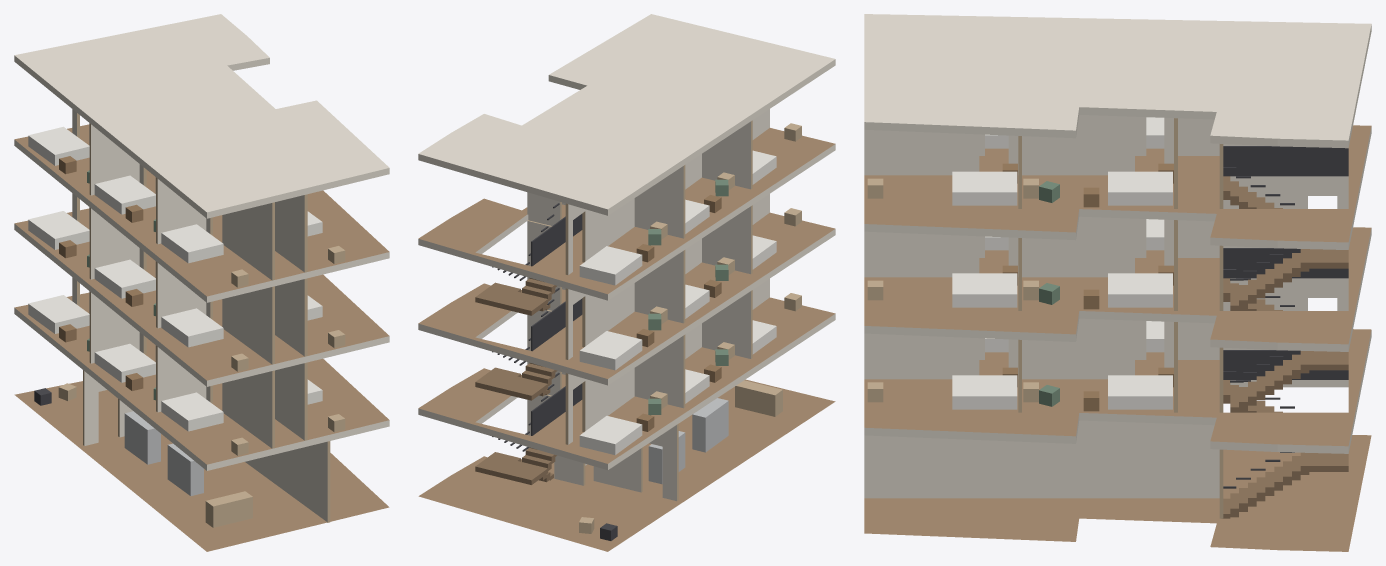
Rendered from interior.glb.
The picture shows the model from 3 angles, left to right: view 1: azimuth 30°, elevation 25°; view 2: azimuth 150°, elevation 25°; view 3: azimuth 270°, elevation 25°; orthographic projection. The views are drawn at different scales.
Visible parts, largest first — view 1: slabs, partitions, coarse-s1, coarse-s2, coarse-s3, coarse-s0; view 2: slabs, partitions, stair, coarse-s3, coarse-s2, coarse-s1, coarse-s0; view 3: slabs, partitions, stair, coarse-s1, coarse-s2, coarse-s3.
Boxes of the visible parts, left/top/right/bottom form: slabs: left=14, top=14, right=389, bottom=551; partitions: left=72, top=109, right=330, bottom=522; coarse-s1: left=28, top=295, right=345, bottom=455; coarse-s2: left=28, top=211, right=345, bottom=371; coarse-s3: left=28, top=126, right=345, bottom=287; coarse-s0: left=34, top=383, right=252, bottom=527; slabs: left=418, top=14, right=835, bottom=551; partitions: left=527, top=109, right=769, bottom=501; stair: left=475, top=203, right=582, bottom=484; coarse-s3: left=579, top=123, right=801, bottom=285; coarse-s2: left=579, top=208, right=801, bottom=370; coarse-s1: left=579, top=293, right=801, bottom=455; coarse-s0: left=579, top=380, right=782, bottom=540; slabs: left=864, top=14, right=1371, bottom=551; partitions: left=864, top=115, right=1348, bottom=518; stair: left=1222, top=146, right=1348, bottom=518; coarse-s1: left=867, top=321, right=1173, bottom=411; coarse-s2: left=867, top=219, right=1173, bottom=309; coarse-s3: left=867, top=117, right=1173, bottom=207.
Bounding box in the file's own units: 9.19 × 13.95 × 15.56.
